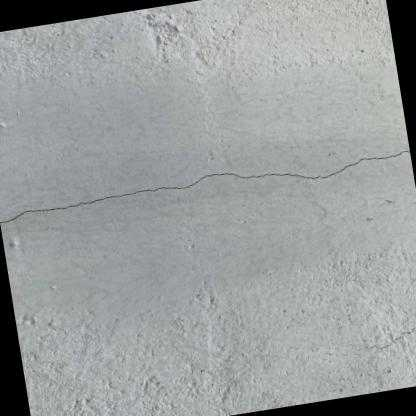crack: (0, 148, 410, 223)
